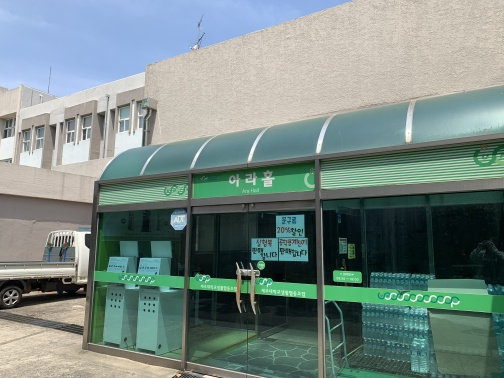Ara Hall: (102, 133, 493, 376)
